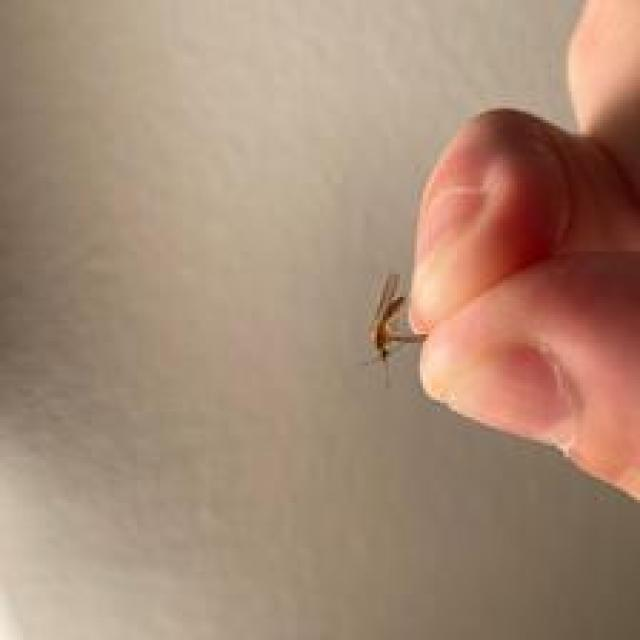Culex: (364, 272, 427, 388)
